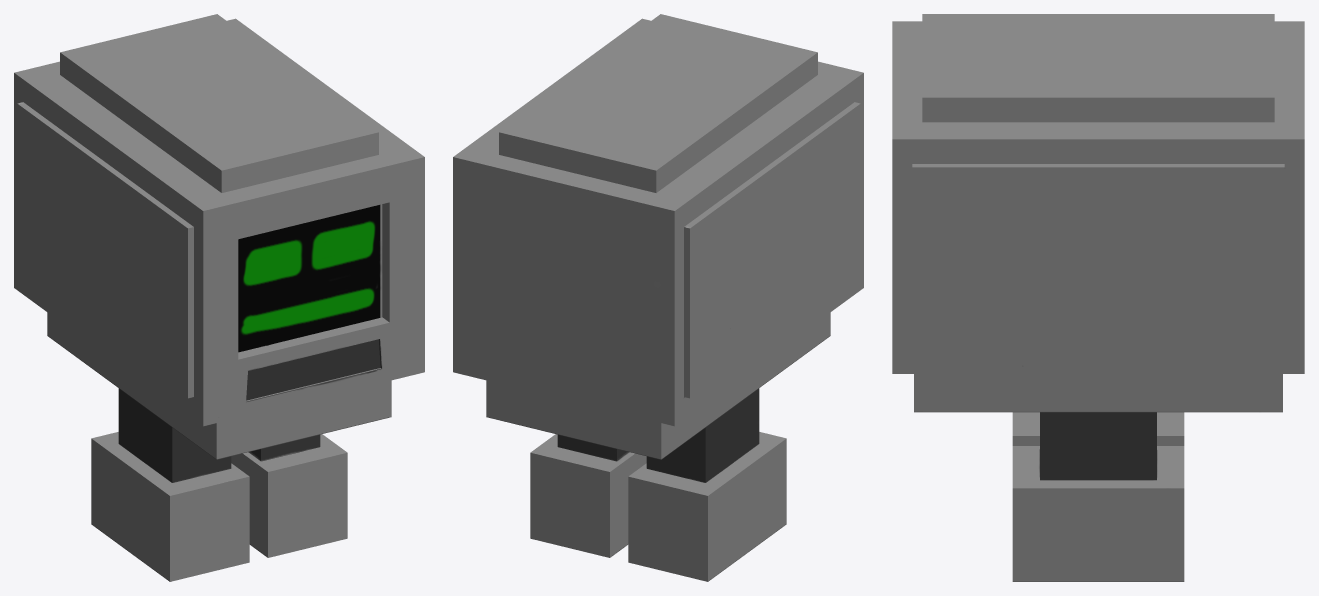
File: Bot.fbx
3 renders of one model, left to right at view 1: azimuth 30°, elevation 25°; view 2: azimuth 150°, elevation 25°; view 3: azimuth 270°, elevation 25°, orthographic. The views are drawn at different scales.
Parts seen in each view (by area): view 1: Main Body, Leg.002, Leg.001; view 2: Main Body, Leg.002, Leg.001; view 3: Main Body, Leg.001, Leg.002.
Part boxes in pixels (x1,y1,x2,y2): Main Body: (14, 14, 424, 459); Leg.002: (91, 388, 249, 581); Leg.001: (231, 434, 347, 557); Main Body: (453, 14, 863, 459); Leg.002: (628, 388, 786, 581); Leg.001: (530, 434, 646, 557); Main Body: (892, 14, 1304, 412); Leg.001: (1012, 412, 1184, 581); Leg.002: (1012, 412, 1184, 445).
Bounding box in the file's own units: 78.94 × 142 × 111.
